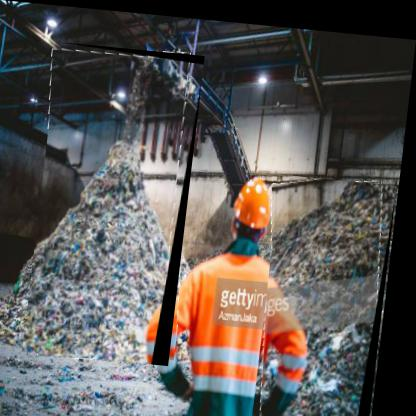Garbage: (31, 42, 208, 364), (260, 169, 403, 416)
